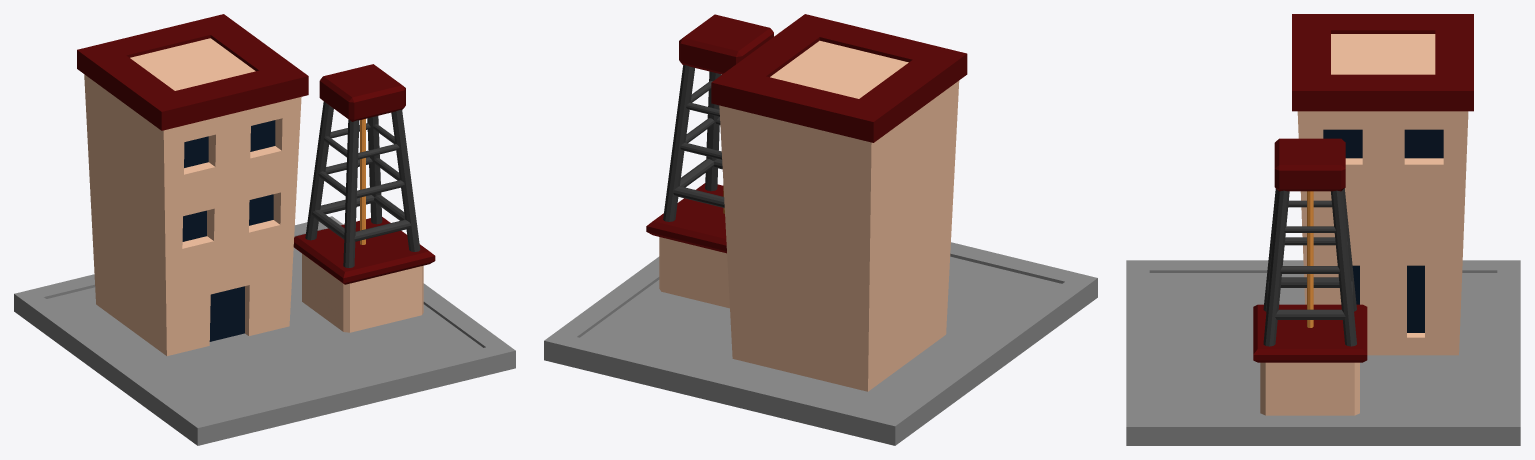
Rendered from SubOffice_GasExtraction_Model.fbx.
The picture shows the model from 3 angles, left to right: view 1: azimuth 30°, elevation 25°; view 2: azimuth 150°, elevation 25°; view 3: azimuth 270°, elevation 25°; orthographic projection. The views are drawn at different scales.
Parts seen in each view (by area): view 1: SubOffice_WindTurbine_Model:pCube29, pCube7, GasExtraction_Model:pCylinder18; view 2: SubOffice_WindTurbine_Model:pCube29, pCube7, GasExtraction_Model:pCylinder18; view 3: pCube7, SubOffice_WindTurbine_Model:pCube29, GasExtraction_Model:pCylinder18.
Part boxes in pixels (x1=…): SubOffice_WindTurbine_Model:pCube29: x1=77, y1=14, x2=308, y2=355; pCube7: x1=14, y1=216, x2=515, y2=445; GasExtraction_Model:pCylinder18: x1=293, y1=64, x2=435, y2=332; SubOffice_WindTurbine_Model:pCube29: x1=711, y1=14, x2=967, y2=391; pCube7: x1=544, y1=242, x2=1097, y2=445; GasExtraction_Model:pCylinder18: x1=646, y1=14, x2=773, y2=308; pCube7: x1=1126, y1=260, x2=1520, y2=445; SubOffice_WindTurbine_Model:pCube29: x1=1292, y1=14, x2=1473, y2=355; GasExtraction_Model:pCylinder18: x1=1253, y1=138, x2=1367, y2=415.
Size of the model in its own units: 22.06 by 17.73 by 22.06.
